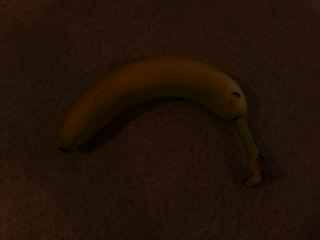banana: (48, 40, 272, 203)
